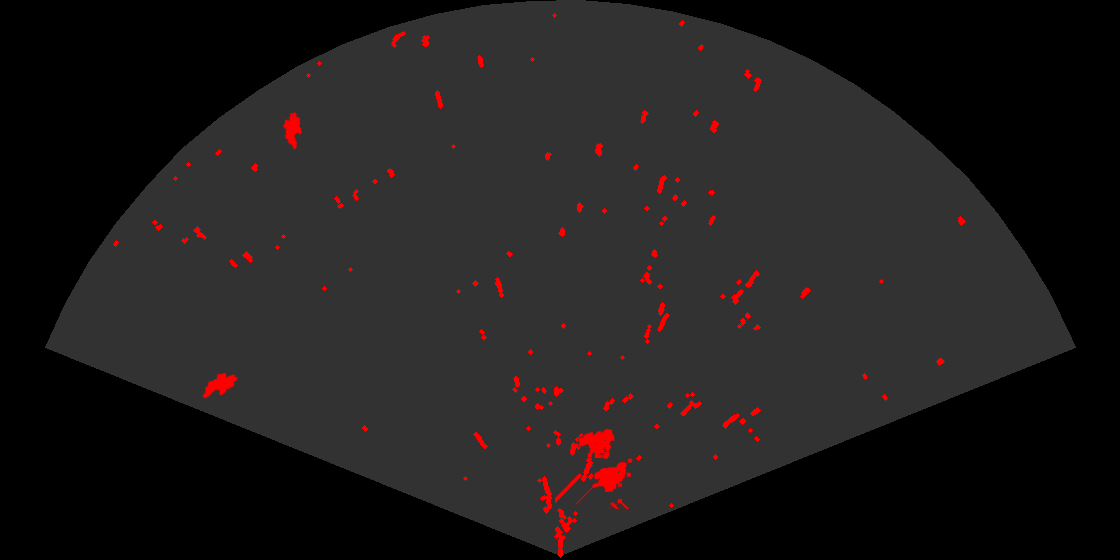AUV: (201, 371, 239, 400), (281, 110, 304, 151)
cage: (555, 427, 634, 509)
